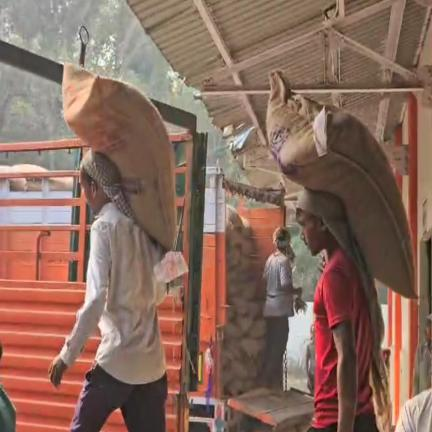Zone-Counting: (266, 71, 416, 432), (49, 64, 185, 432)
